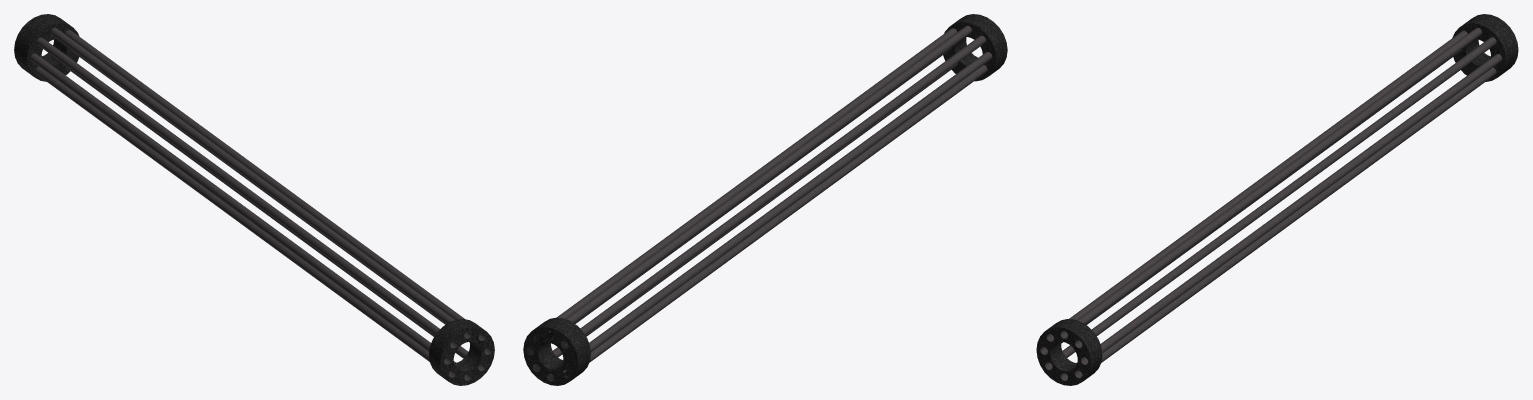
File: resource-pipeline.fbx
3 views of the same model, side by side, from view 1: azimuth 30°, elevation 25°; view 2: azimuth 150°, elevation 25°; view 3: azimuth 330°, elevation 25° (orthographic).
Parts seen in each view (by area): view 1: Component1; view 2: Component1; view 3: Component1.
Part boxes in pixels (box(x1,y1,x2,y2)): Component1: box(14, 14, 494, 385); Component1: box(523, 14, 1007, 385); Component1: box(1036, 14, 1518, 385).
Bounding box in the file's own units: 1.95 × 1.97 × 26.18.
